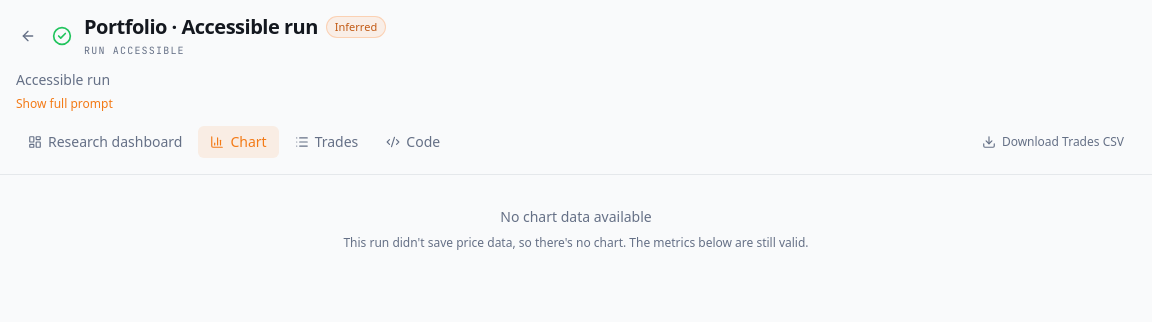
Test: RunDetail page › exposes run status and tab state while keeping the trades table scrollable
expect the text "Accessible run" is shown: met, box [16,70,110,89]
expect the element showing "Research dashboard Chart Trades Code" is shown: met, box [16,126,452,158]
Click the tab "Trades". click: (327, 142)
box: [283,126,370,158]
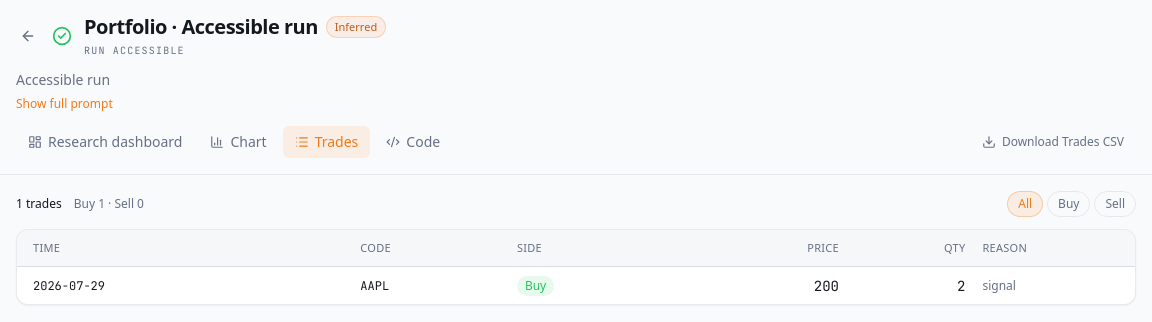
expect the tab "Trades" is selected: met, box [283,126,370,158]
expect the tab "Trades" has class "font-medium": met, box [283,126,370,158]
